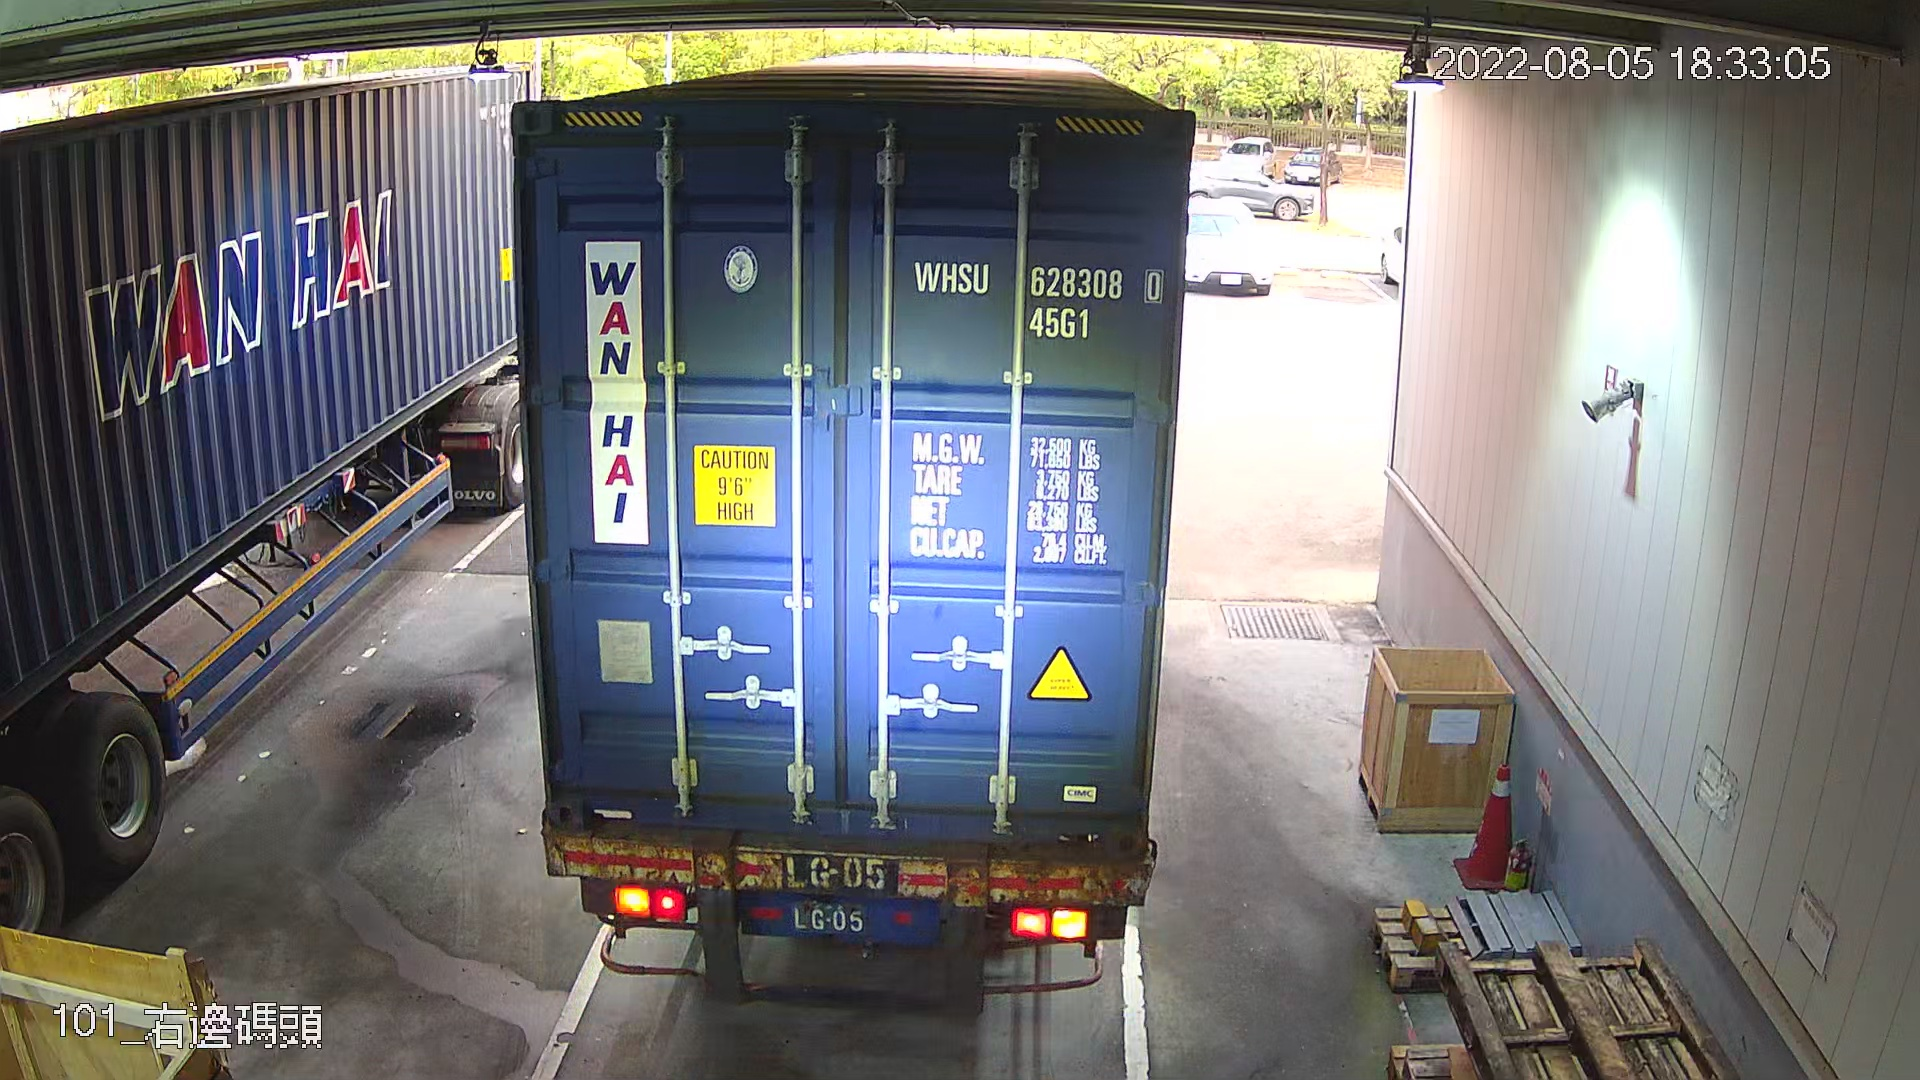container: (899, 251, 1172, 352)
